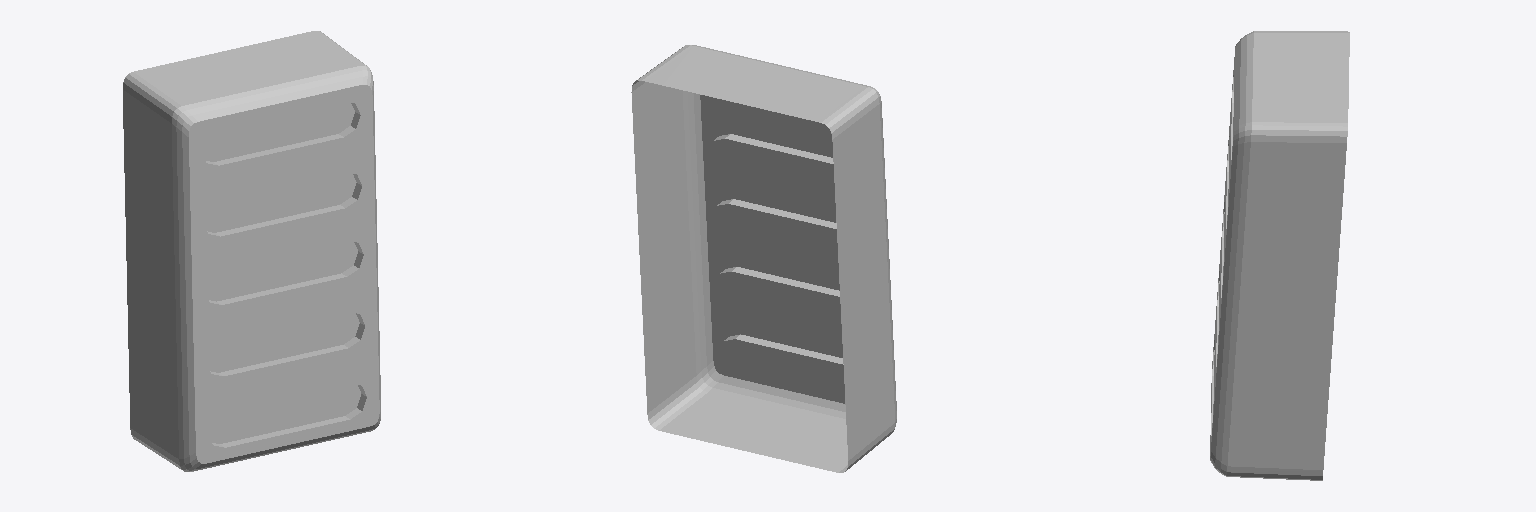
3 renders of one model, left to right at view 1: azimuth 30°, elevation 25°; view 2: azimuth 150°, elevation 25°; view 3: azimuth 270°, elevation 25°, orthographic.
Visible parts, largest first — view 1: polySurface28 BellySquare:polySurface6; view 2: polySurface28 BellySquare:polySurface6; view 3: polySurface28 BellySquare:polySurface6.
Part boxes in pixels (bbox=[...]): polySurface28 BellySquare:polySurface6: bbox=[123, 31, 380, 471]; polySurface28 BellySquare:polySurface6: bbox=[631, 45, 896, 472]; polySurface28 BellySquare:polySurface6: bbox=[1210, 31, 1349, 480].
Size of the model in its own units: 0.3751 by 0.6288 by 0.2207.